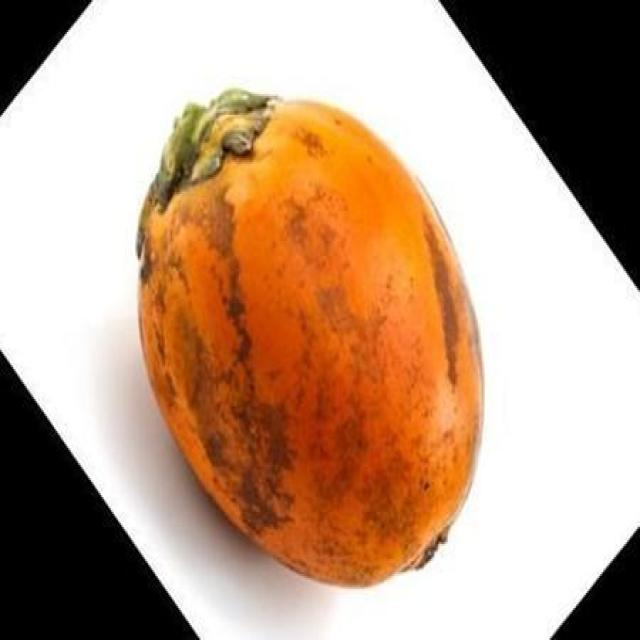good: (135, 88, 486, 591)
